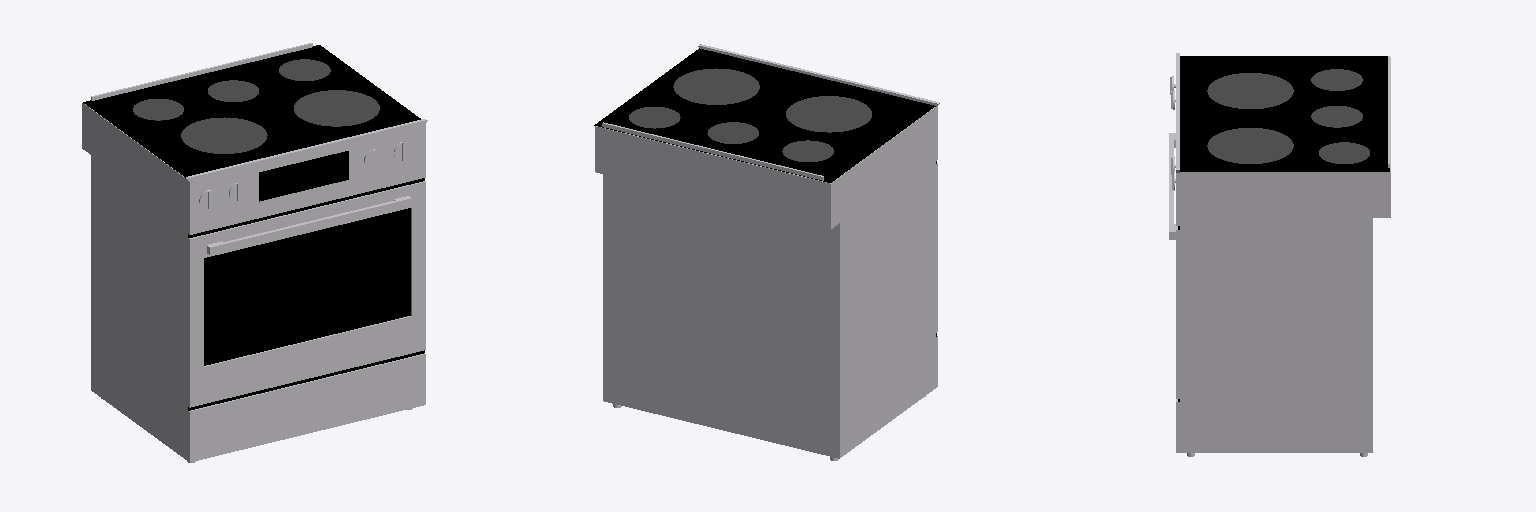
File: stove1.obj
3 views of the same model, side by side, from view 1: azimuth 30°, elevation 25°; view 2: azimuth 150°, elevation 25°; view 3: azimuth 270°, elevation 25° (orthographic).
Visible parts, largest first — view 1: Mesh5 Bosch_SIR_HEIP054U1 Model, Mesh8 Bosch_SIR_HEIP054U1 Model, Mesh7 Bosch_SIR_HEIP054U1 Model, Mesh28 Bosch_SIR_HEIP054U1 Model, Mesh10 Bosch_SIR_HEIP054U1 Model, Mesh20 Bosch_SIR_HEIP054U1 Model, Mesh35 Bosch_SIR_HEIP054U1 Model, Mesh33 Bosch_SIR_HEIP054U1 Model, Mesh27 Bosch_SIR_HEIP054U1 Model, Mesh12 Bosch_SIR_HEIP054U1 Model, Mesh29 Bosch_SIR_HEIP054U1 Model, Mesh30 Bosch_SIR_HEIP054U1 Model (+4 smaller); view 2: Mesh5 Bosch_SIR_HEIP054U1 Model, Mesh28 Bosch_SIR_HEIP054U1 Model, Mesh35 Bosch_SIR_HEIP054U1 Model, Mesh33 Bosch_SIR_HEIP054U1 Model, Mesh29 Bosch_SIR_HEIP054U1 Model, Mesh12 Bosch_SIR_HEIP054U1 Model, Mesh31 Bosch_SIR_HEIP054U1 Model, Mesh32 Bosch_SIR_HEIP054U1 Model, Mesh30 Bosch_SIR_HEIP054U1 Model, Mesh34 Bosch_SIR_HEIP054U1 Model; view 3: Mesh5 Bosch_SIR_HEIP054U1 Model, Mesh28 Bosch_SIR_HEIP054U1 Model, Mesh35 Bosch_SIR_HEIP054U1 Model, Mesh33 Bosch_SIR_HEIP054U1 Model, Mesh32 Bosch_SIR_HEIP054U1 Model, Mesh30 Bosch_SIR_HEIP054U1 Model, Mesh31 Bosch_SIR_HEIP054U1 Model, Mesh7 Bosch_SIR_HEIP054U1 Model.
Part boxes in pixels (left/top/right/bottom): Mesh5 Bosch_SIR_HEIP054U1 Model: left=82, top=103, right=425, bottom=462; Mesh8 Bosch_SIR_HEIP054U1 Model: left=204, top=208, right=410, bottom=365; Mesh7 Bosch_SIR_HEIP054U1 Model: left=188, top=181, right=425, bottom=407; Mesh28 Bosch_SIR_HEIP054U1 Model: left=83, top=45, right=420, bottom=177; Mesh10 Bosch_SIR_HEIP054U1 Model: left=188, top=123, right=425, bottom=234; Mesh20 Bosch_SIR_HEIP054U1 Model: left=259, top=151, right=348, bottom=201; Mesh35 Bosch_SIR_HEIP054U1 Model: left=294, top=90, right=379, bottom=126; Mesh33 Bosch_SIR_HEIP054U1 Model: left=181, top=117, right=267, bottom=153; Mesh27 Bosch_SIR_HEIP054U1 Model: left=207, top=196, right=412, bottom=254; Mesh12 Bosch_SIR_HEIP054U1 Model: left=188, top=119, right=426, bottom=180; Mesh29 Bosch_SIR_HEIP054U1 Model: left=91, top=43, right=312, bottom=100; Mesh30 Bosch_SIR_HEIP054U1 Model: left=279, top=59, right=330, bottom=80; Mesh5 Bosch_SIR_HEIP054U1 Model: left=595, top=107, right=937, bottom=458; Mesh28 Bosch_SIR_HEIP054U1 Model: left=594, top=48, right=935, bottom=182; Mesh35 Bosch_SIR_HEIP054U1 Model: left=673, top=68, right=759, bottom=104; Mesh33 Bosch_SIR_HEIP054U1 Model: left=786, top=96, right=871, bottom=132; Mesh29 Bosch_SIR_HEIP054U1 Model: left=602, top=122, right=823, bottom=180; Mesh12 Bosch_SIR_HEIP054U1 Model: left=699, top=44, right=937, bottom=105; Mesh31 Bosch_SIR_HEIP054U1 Model: left=707, top=122, right=758, bottom=143; Mesh32 Bosch_SIR_HEIP054U1 Model: left=782, top=140, right=833, bottom=161; Mesh30 Bosch_SIR_HEIP054U1 Model: left=629, top=107, right=680, bottom=128; Mesh34 Bosch_SIR_HEIP054U1 Model: left=804, top=103, right=854, bottom=124; Mesh5 Bosch_SIR_HEIP054U1 Model: left=1176, top=57, right=1390, bottom=452; Mesh28 Bosch_SIR_HEIP054U1 Model: left=1180, top=56, right=1389, bottom=171; Mesh35 Bosch_SIR_HEIP054U1 Model: left=1207, top=128, right=1293, bottom=163; Mesh33 Bosch_SIR_HEIP054U1 Model: left=1207, top=73, right=1293, bottom=108; Mesh32 Bosch_SIR_HEIP054U1 Model: left=1311, top=69, right=1362, bottom=90; Mesh30 Bosch_SIR_HEIP054U1 Model: left=1319, top=142, right=1369, bottom=163; Mesh31 Bosch_SIR_HEIP054U1 Model: left=1311, top=106, right=1362, bottom=127; Mesh7 Bosch_SIR_HEIP054U1 Model: left=1176, top=226, right=1179, bottom=398.
Size of the model in its own units: 32.02 by 37.25 by 25.56.